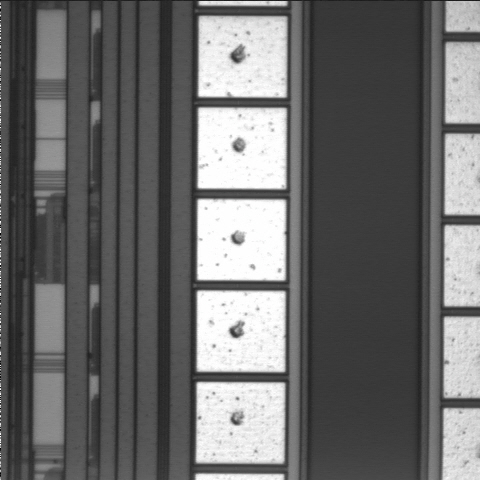pad: (198, 16, 287, 98), (197, 199, 286, 281), (198, 108, 287, 189), (197, 291, 286, 372), (196, 382, 285, 463)
